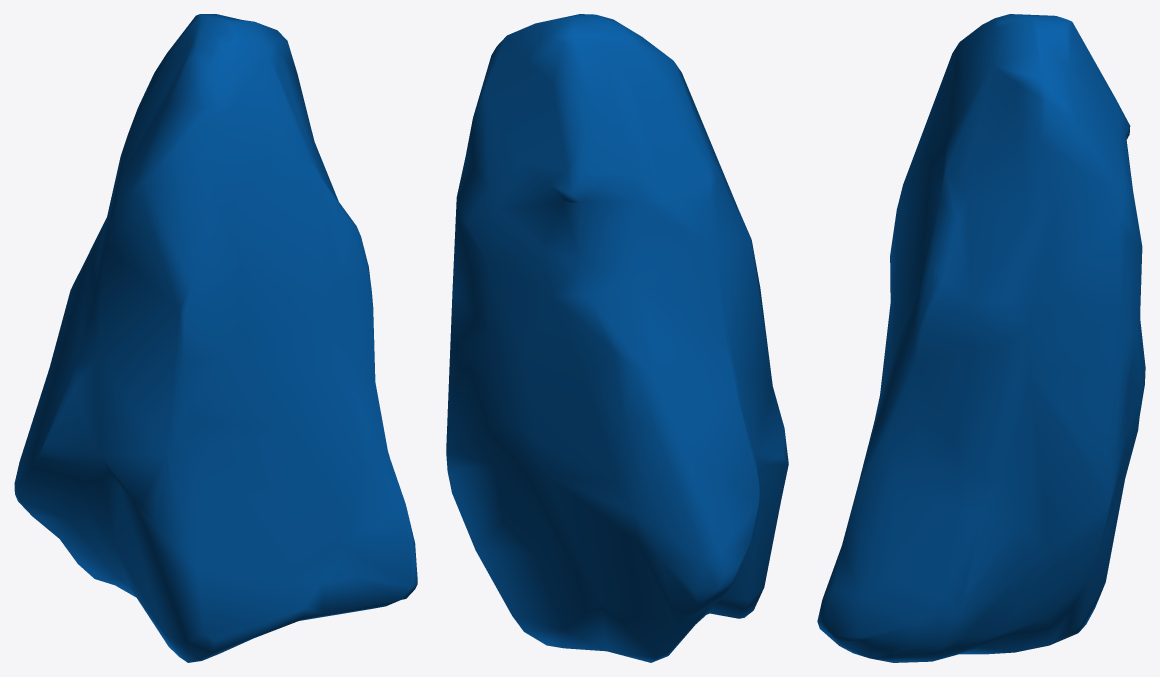
Rendered from stone_runic_5.glb.
The picture shows the model from 3 angles, left to right: view 1: azimuth 30°, elevation 25°; view 2: azimuth 150°, elevation 25°; view 3: azimuth 270°, elevation 25°; orthographic projection. The views are drawn at different scales.
Visible parts, largest first — view 1: Runic_5; view 2: Runic_5; view 3: Runic_5.
Part boxes in pixels (x1,y1,x2,y2): Runic_5: (14,14,417,662); Runic_5: (446,14,788,662); Runic_5: (817,14,1145,662).
Size of the model in its own units: 0.7976 by 1.47 by 0.7066.
Materials: 1 (1 with a texture image).
